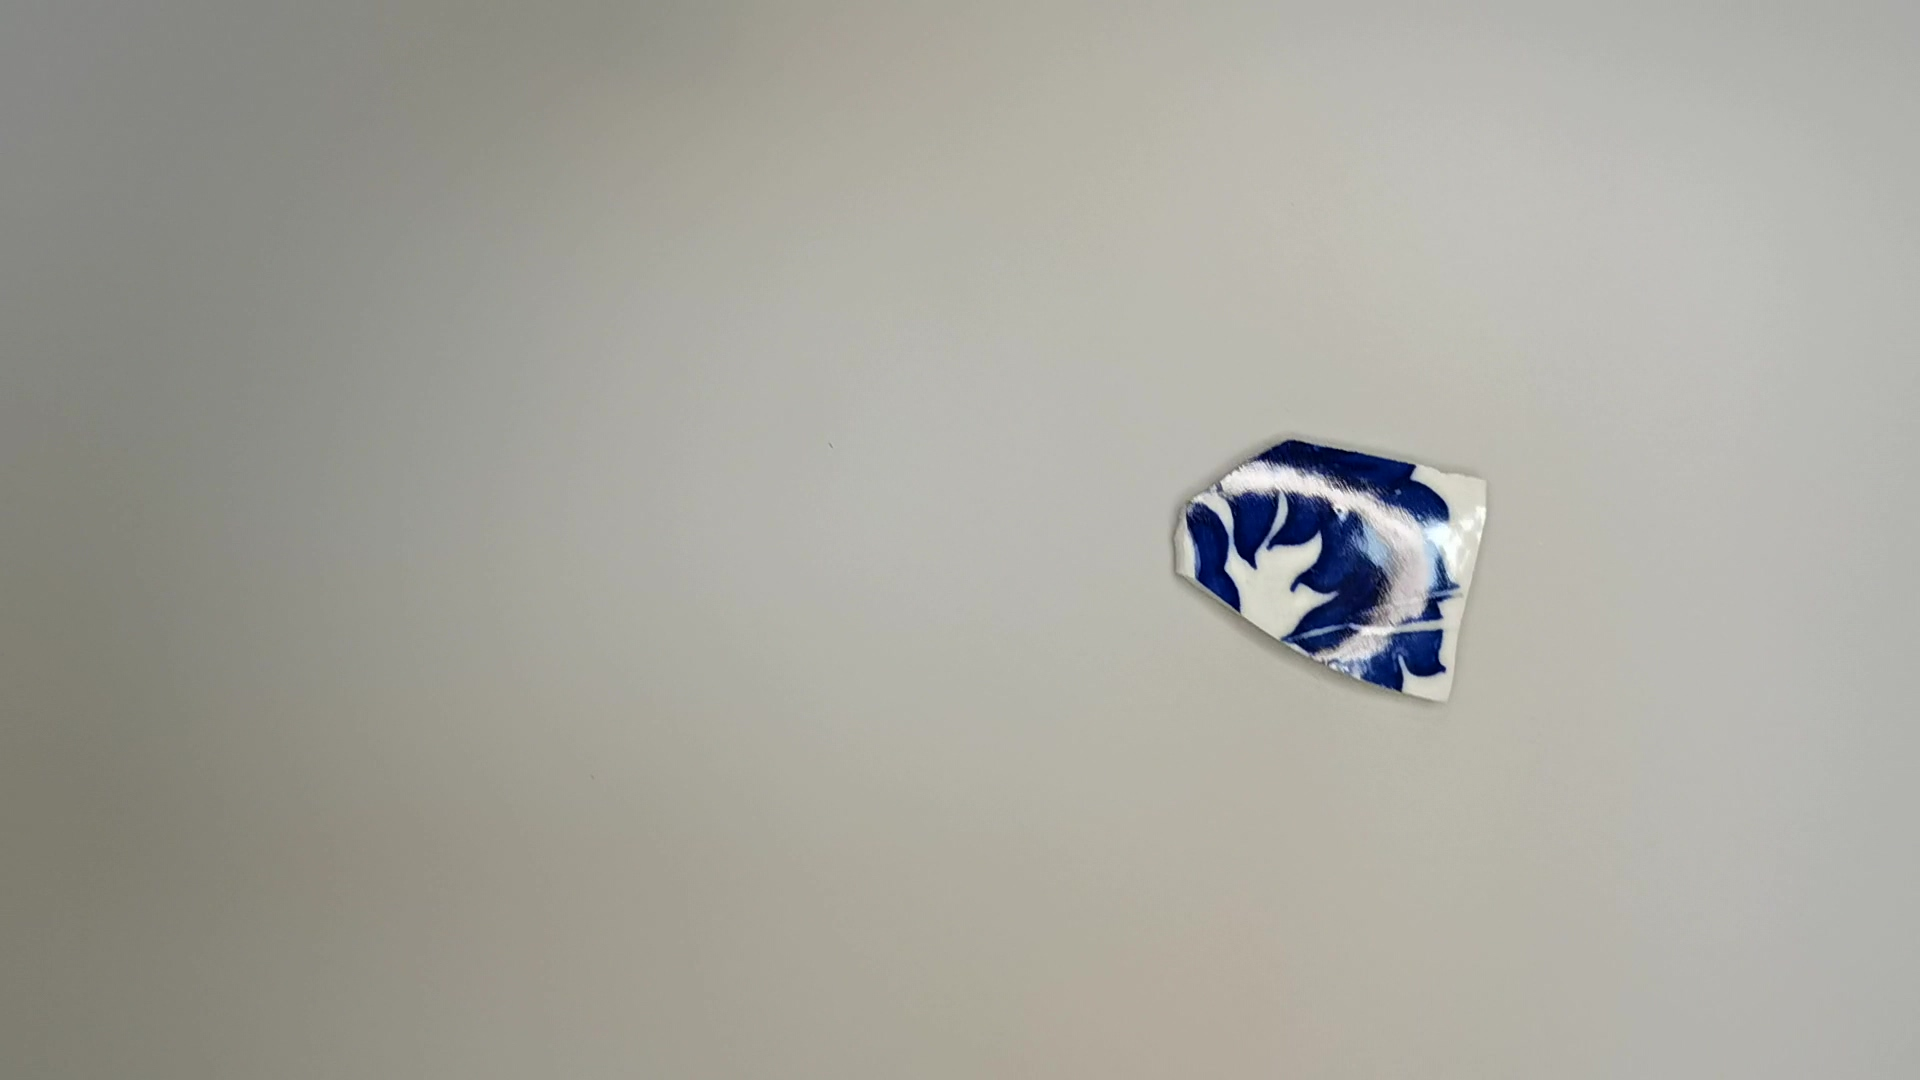ceramic: (1162, 436, 1507, 713)
